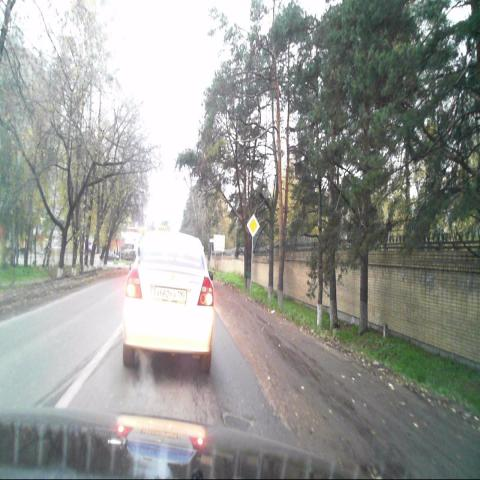2_1: (246, 213, 260, 236)
